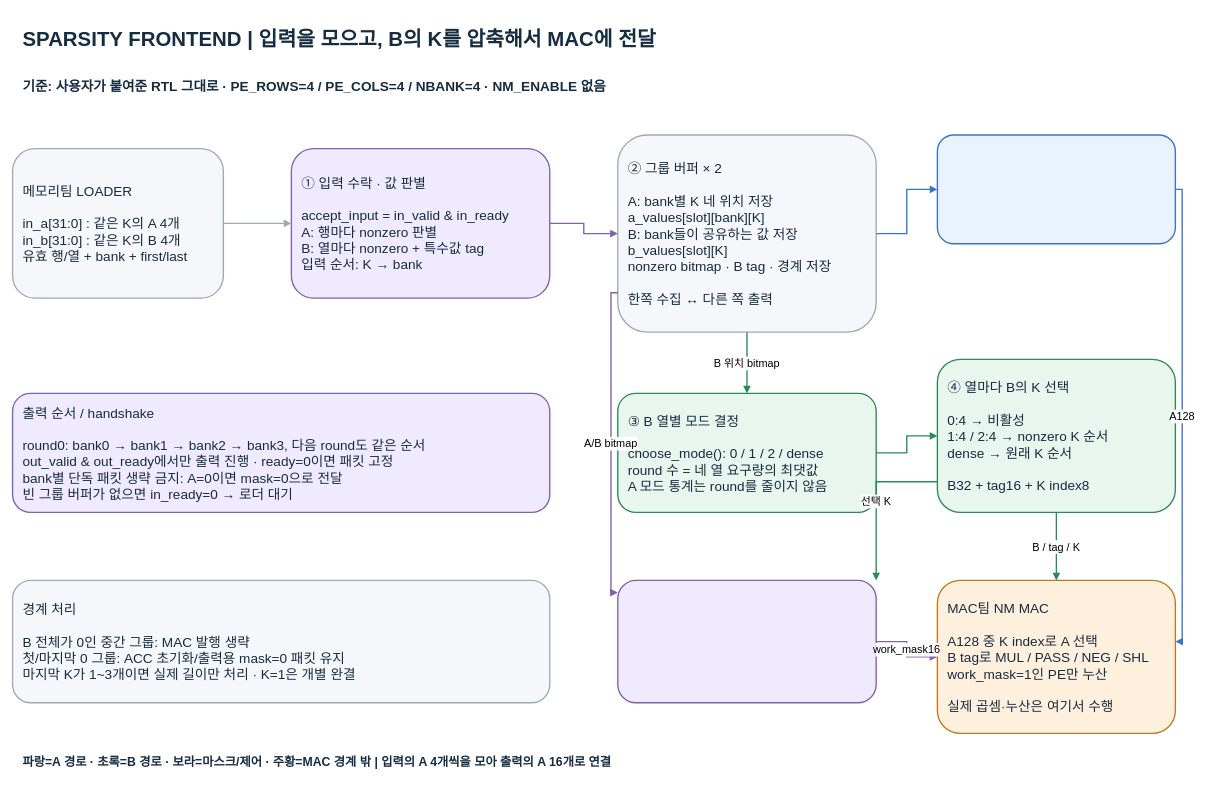
This 1206x796 diagram has some shape labels left out. The centre of each missing label's shape, as x and y in pixels:
③ A 전체 묶기 K0/K1/K2/K3의 A 벡터 원래 K 순서 · 128비트 열별 A 선택은 MAC이 수행: the point at 1056,189
⑤ PE별 work_mask[15:0] 선택된 K에서 A nonzero AND B nonzero 비활성 열은 tag=0, mask=0: the point at 747,641
